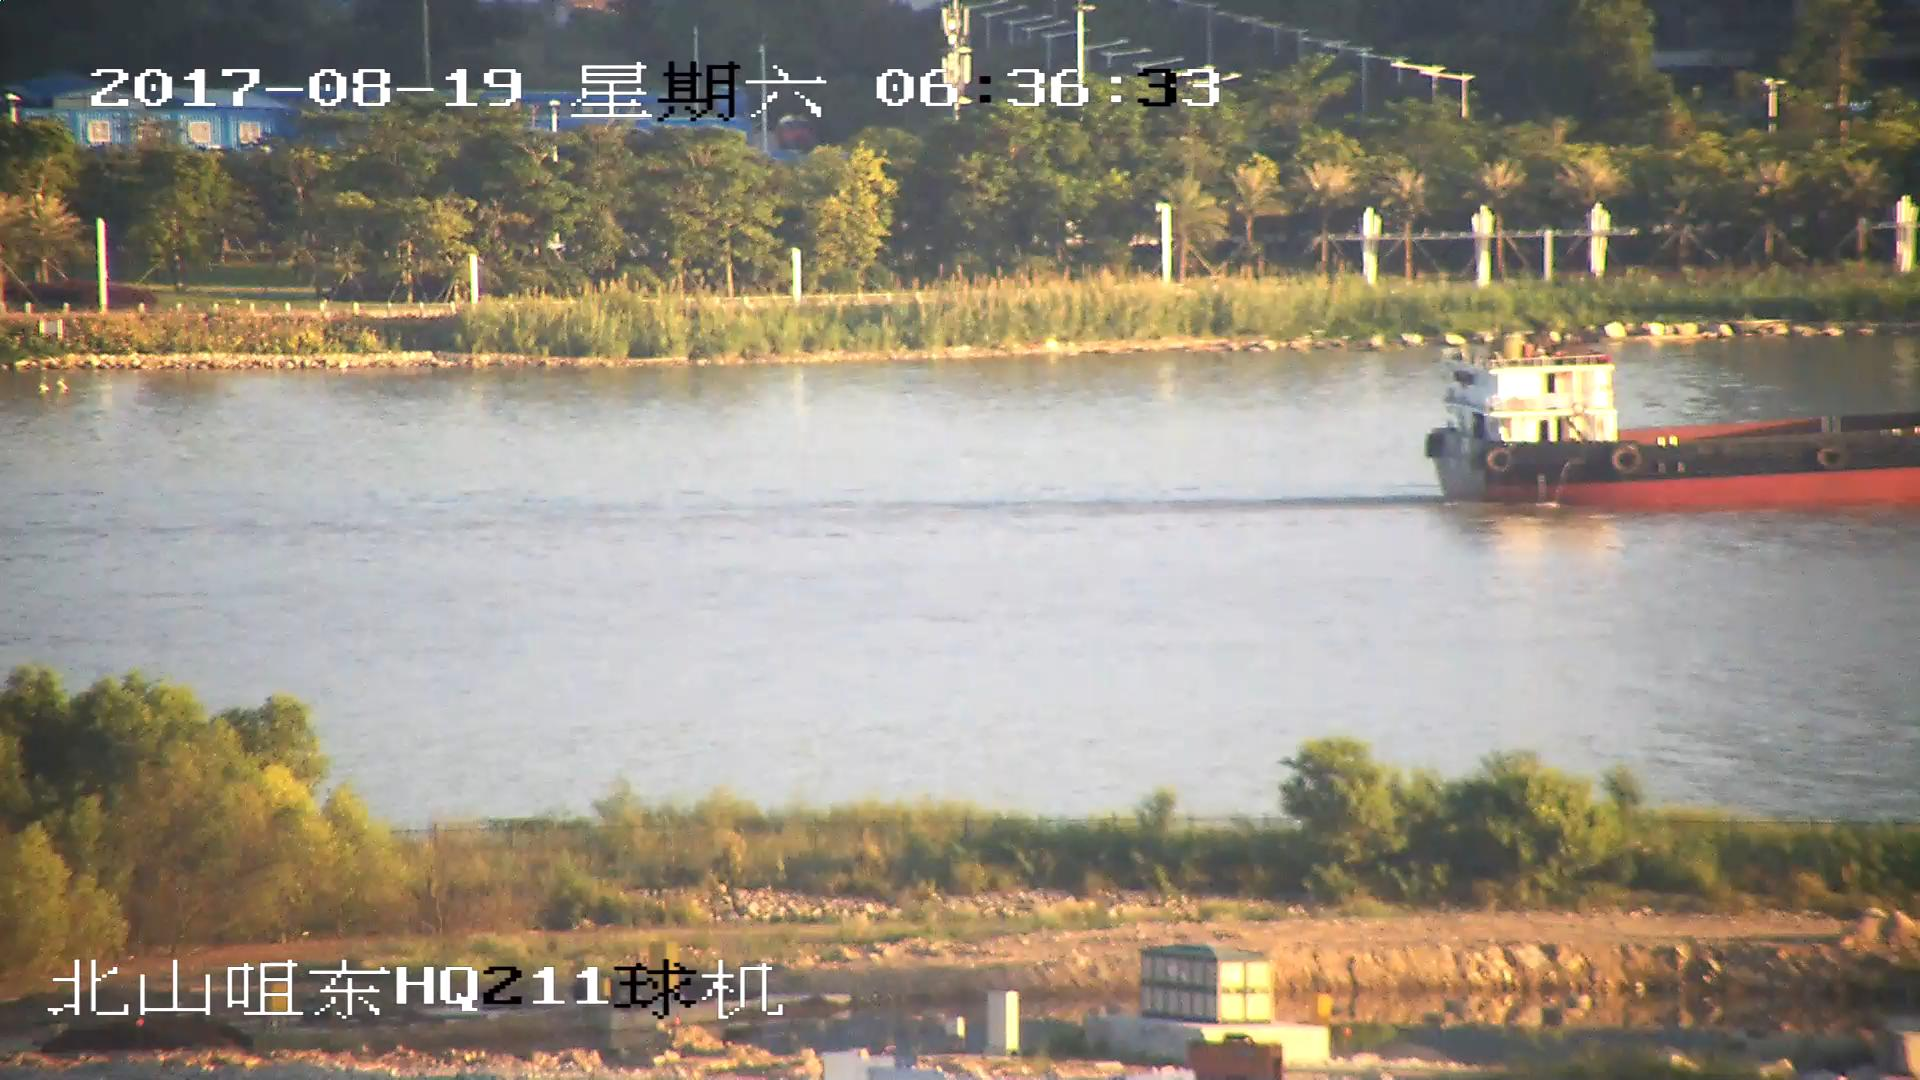general cargo ship: (1432, 351, 1920, 499)
